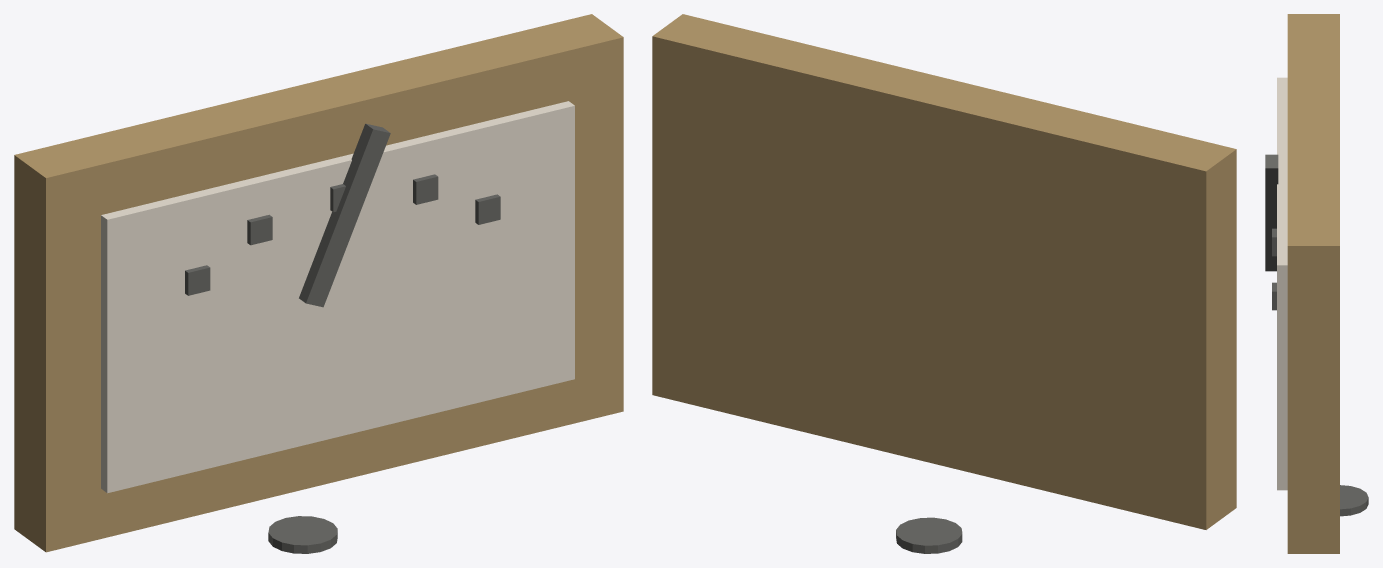
Rendered from corridor_lift_dial.glb.
3 renders of one model, left to right at view 1: azimuth 30°, elevation 25°; view 2: azimuth 150°, elevation 25°; view 3: azimuth 270°, elevation 25°, orthographic. The views are drawn at different scales.
Parts seen in each view (by area): view 1: corridor_lift_dial; view 2: corridor_lift_dial; view 3: corridor_lift_dial.
Boxes of the visible parts, x1,y1,x2,y2 form: corridor_lift_dial: (14,14,623,553); corridor_lift_dial: (652,14,1236,553); corridor_lift_dial: (1265,14,1368,553).
Bounding box in the file's own units: 0.42 × 0.316 × 0.079.
